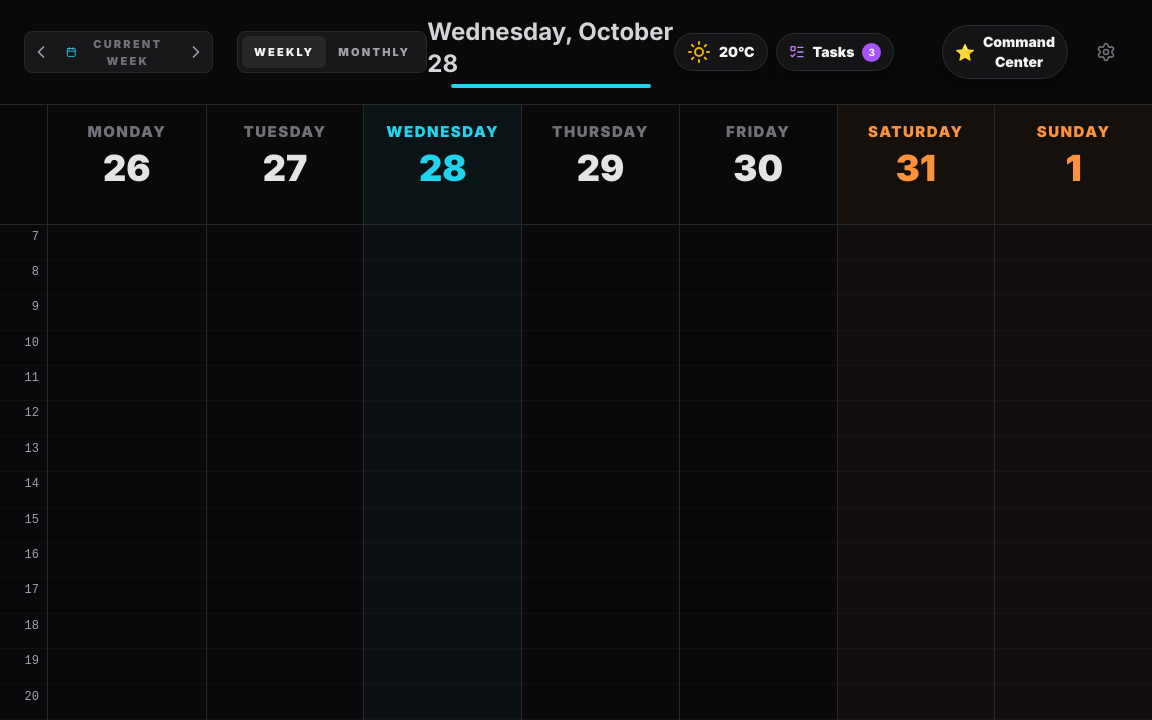
Test: Back from Mission Control after the sign-in changed › an answer for the account before a sign-in, still in flight then, is not what comes back
The image size is (1152, 720).
What coordinates should you click on to do the following:
click the button with test id "switch-to-mc-btn"
I would click on:
 (1005, 52)
Its box is 942,25 -> 1068,79.
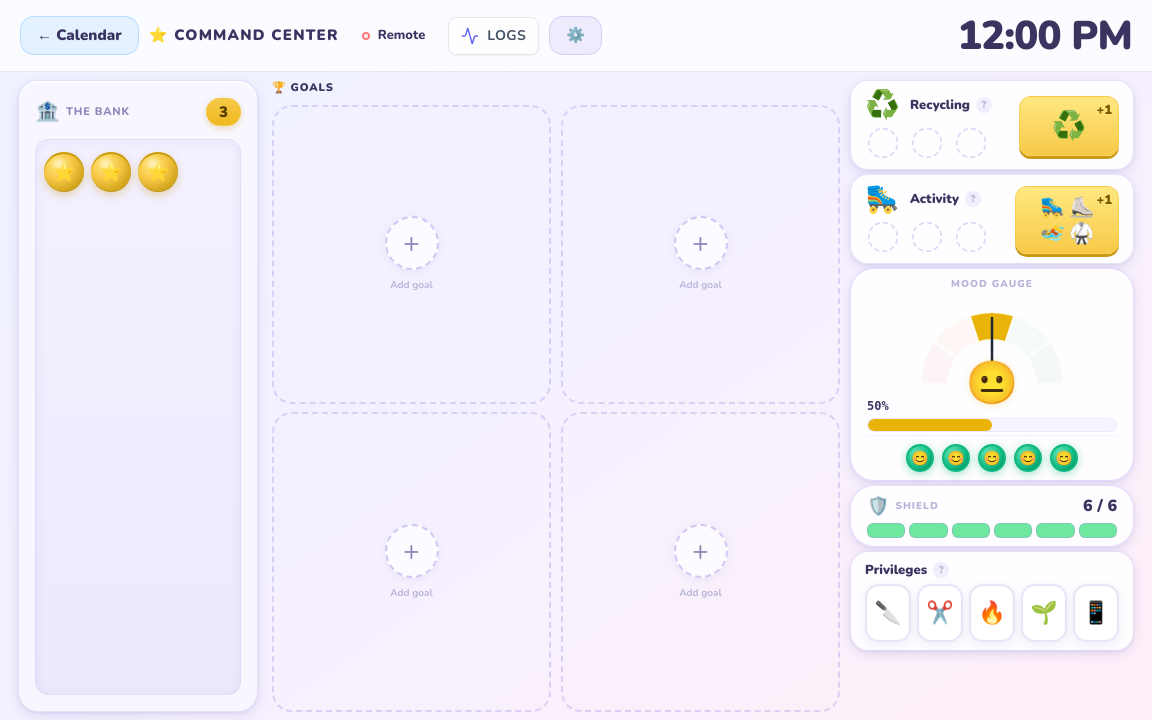
What coordinates should you click on to do the following:
click the button with test id "mc-back-to-calendar-btn"
I would click on:
 (79, 36)
Its box is 20,16 -> 139,55.
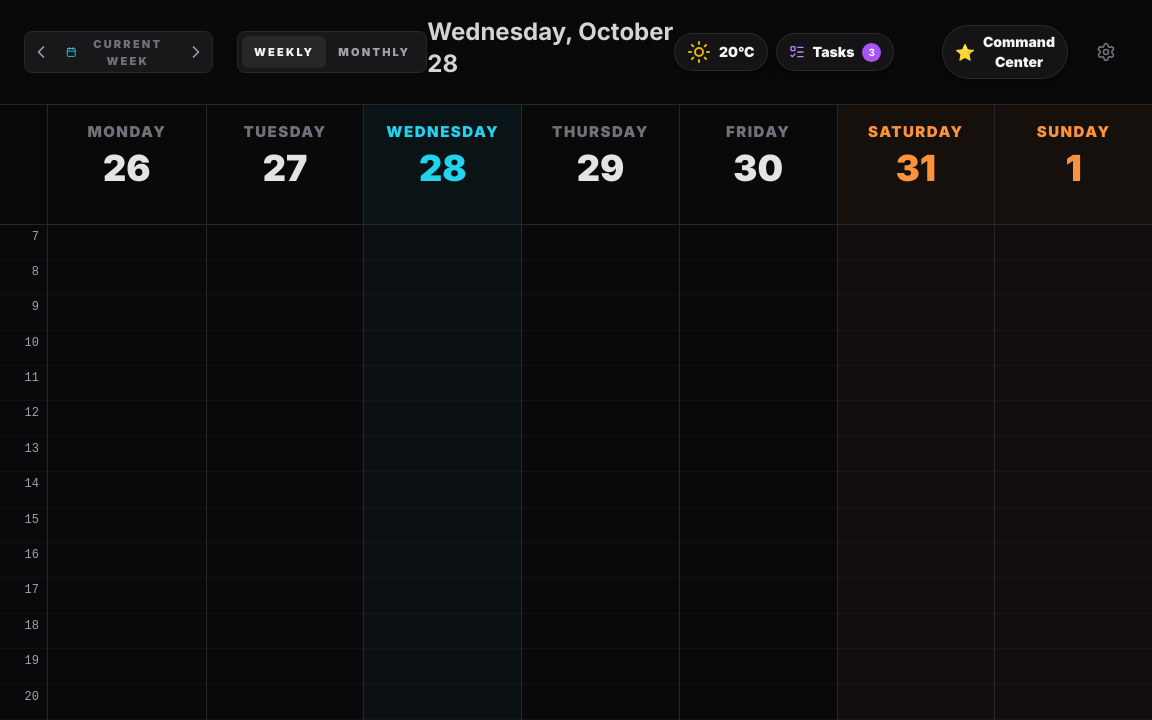
Now the element with test id "calendar-grid" is shown
